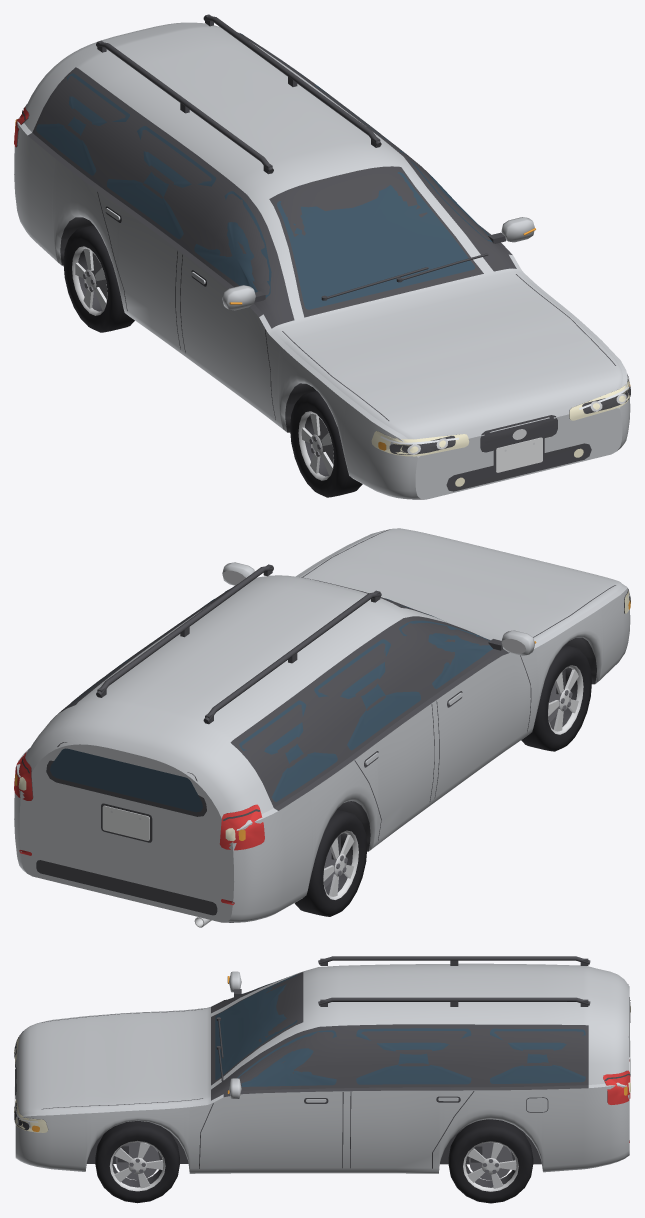
Rendered from 5_close.fbx.
3 renders of one model, top to bottom at view 1: azimuth 30°, elevation 25°; view 2: azimuth 150°, elevation 25°; view 3: azimuth 270°, elevation 25°, orthographic. The views are drawn at different scales.
Visible parts, largest first — view 1: 10_5_close; view 2: 10_5_close; view 3: 10_5_close.
Part boxes in pixels (<box>): 10_5_close: <box>14,14,630,499</box>; 10_5_close: <box>14,528,630,927</box>; 10_5_close: <box>14,956,630,1203</box>.
Bounding box in the file's own units: 2.17 × 1.54 × 4.8.
